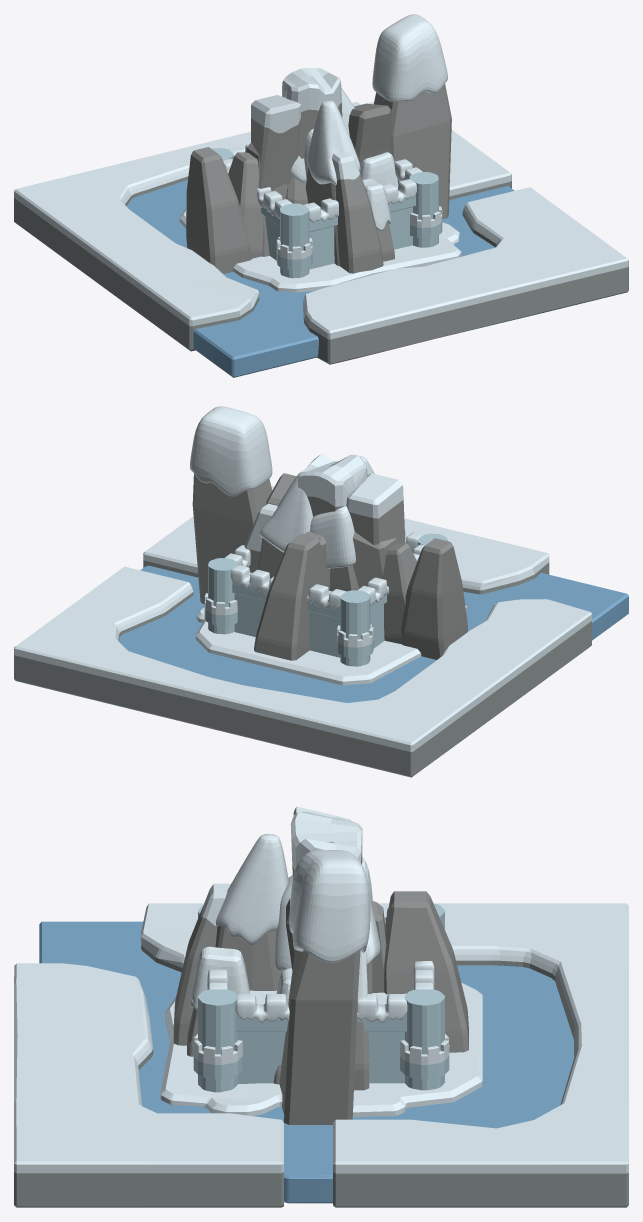
Rendered from Ice_Castle_Realm.fbx.
3 renders of one model, top to bottom at view 1: azimuth 30°, elevation 25°; view 2: azimuth 150°, elevation 25°; view 3: azimuth 270°, elevation 25°, orthographic. The views are drawn at different scales.
Parts seen in each view (by area): view 1: Land1, RockMountain2, Water, RockMountain3, polySurface49, Land2, RockMountain1, Tower2; view 2: Land1, RockMountain2, Water, polySurface49, RockMountain1, RockMountain3, Land2, Tower2; view 3: Land1, Water, RockMountain2, RockMountain3, polySurface49, Land2, Tower2, RockMountain1.
Part boxes in pixels (x1=…): Land1: x1=14, y1=101, x2=628, y2=364; RockMountain2: x1=186, y1=14, x2=451, y2=273; Water: x1=126, y1=180, x2=514, y2=377; RockMountain3: x1=304, y1=100, x2=394, y2=273; polySurface49: x1=211, y1=144, x2=438, y2=278; Land2: x1=179, y1=209, x2=461, y2=292; RockMountain1: x1=246, y1=88, x2=398, y2=256; Tower2: x1=276, y1=206, x2=442, y2=269; Land1: x1=14, y1=485, x2=591, y2=777; RockMountain2: x1=190, y1=406, x2=467, y2=659; Water: x1=119, y1=565, x2=628, y2=702; polySurface49: x1=208, y1=530, x2=447, y2=666; RockMountain1: x1=244, y1=471, x2=396, y2=591; RockMountain3: x1=254, y1=456, x2=374, y2=660; Land2: x1=195, y1=605, x2=466, y2=685; Tower2: x1=204, y1=593, x2=373, y2=658; Land1: x1=14, y1=903, x2=628, y2=1207; Water: x1=39, y1=921, x2=574, y2=1203; RockMountain2: x1=279, y1=806, x2=370, y2=1124; RockMountain3: x1=173, y1=833, x2=468, y2=1056; polySurface49: x1=198, y1=903, x2=444, y2=1092; Land2: x1=160, y1=982, x2=482, y2=1117; Tower2: x1=193, y1=1034, x2=449, y2=1079; RockMountain1: x1=273, y1=857, x2=380, y2=1090.
Bounding box in the file's own units: 267 × 138 × 267.
Materials: 1 (1 with a texture image).
